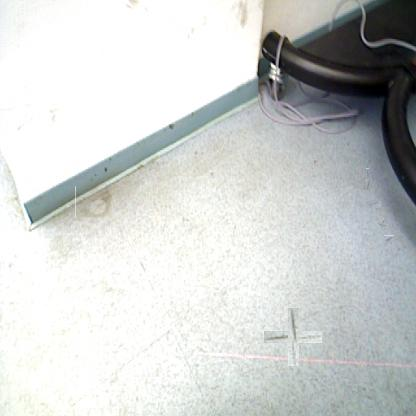mark: (276, 320, 311, 354), (75, 186, 112, 218), (369, 199, 380, 210), (364, 178, 370, 190), (385, 235, 394, 243), (379, 220, 387, 228), (309, 159, 317, 166), (192, 147, 198, 155), (210, 170, 216, 178), (365, 168, 369, 177)
